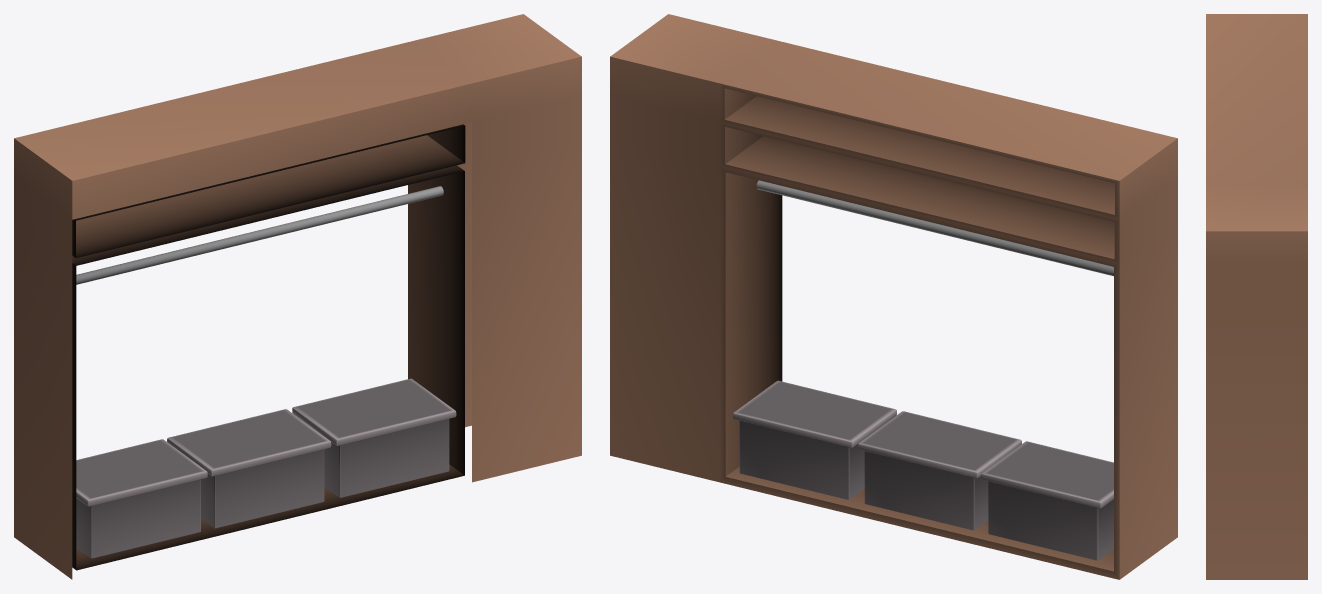
The model's file is Shkaf 2.fbx.
The picture shows the model from 3 angles, left to right: view 1: azimuth 30°, elevation 25°; view 2: azimuth 150°, elevation 25°; view 3: azimuth 270°, elevation 25°; orthographic projection. The views are drawn at different scales.
Parts seen in each view (by area): view 1: Shkaf 2; view 2: Shkaf 2; view 3: Shkaf 2.
Part boxes in pixels (box(x1,y1,x2,y2)): Shkaf 2: box(14, 14, 581, 579); Shkaf 2: box(610, 14, 1177, 579); Shkaf 2: box(1206, 14, 1307, 579).
Bounding box in the file's own units: 2.67 × 0.5288 × 2.
